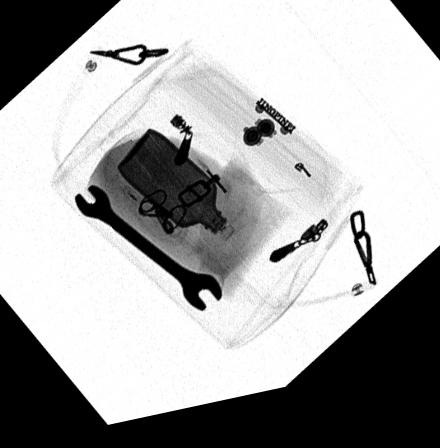Wrench: (72, 187, 223, 320)
